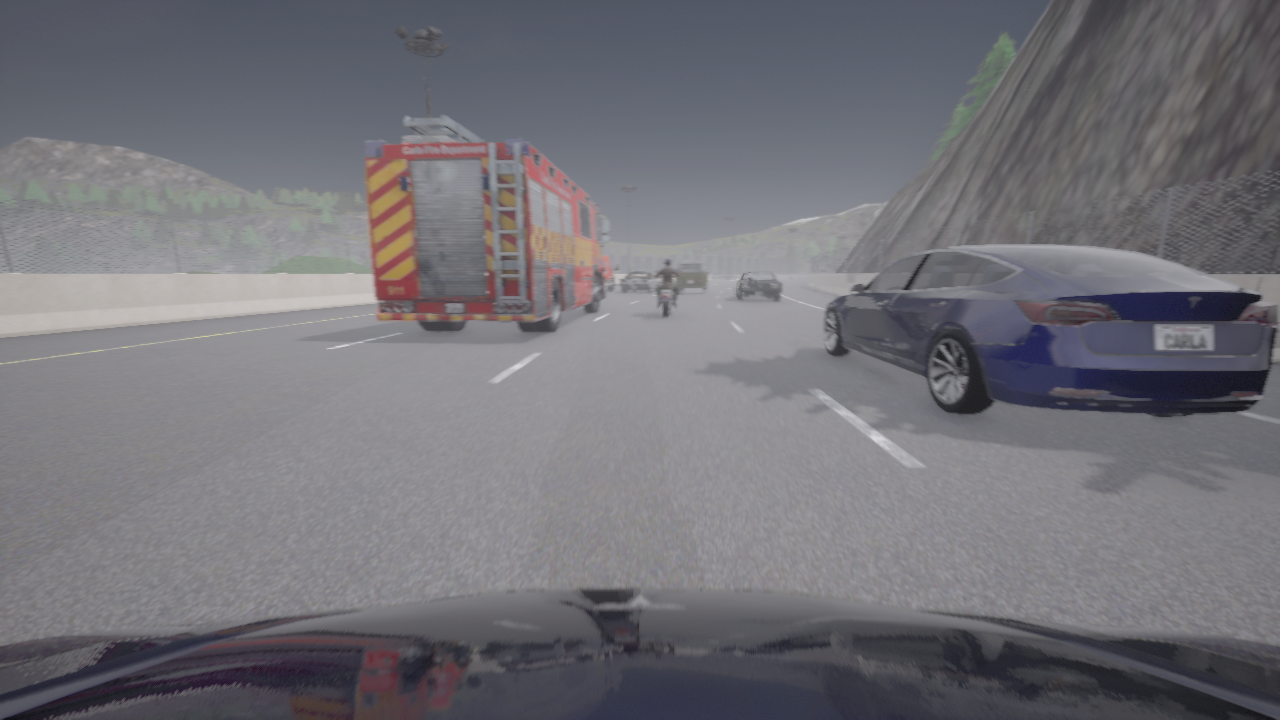cyclist: (0, 588, 1279, 719), (823, 244, 1279, 417), (366, 116, 610, 332), (735, 271, 782, 300), (676, 260, 710, 293), (656, 271, 677, 317), (620, 272, 659, 292), (603, 254, 617, 291)
